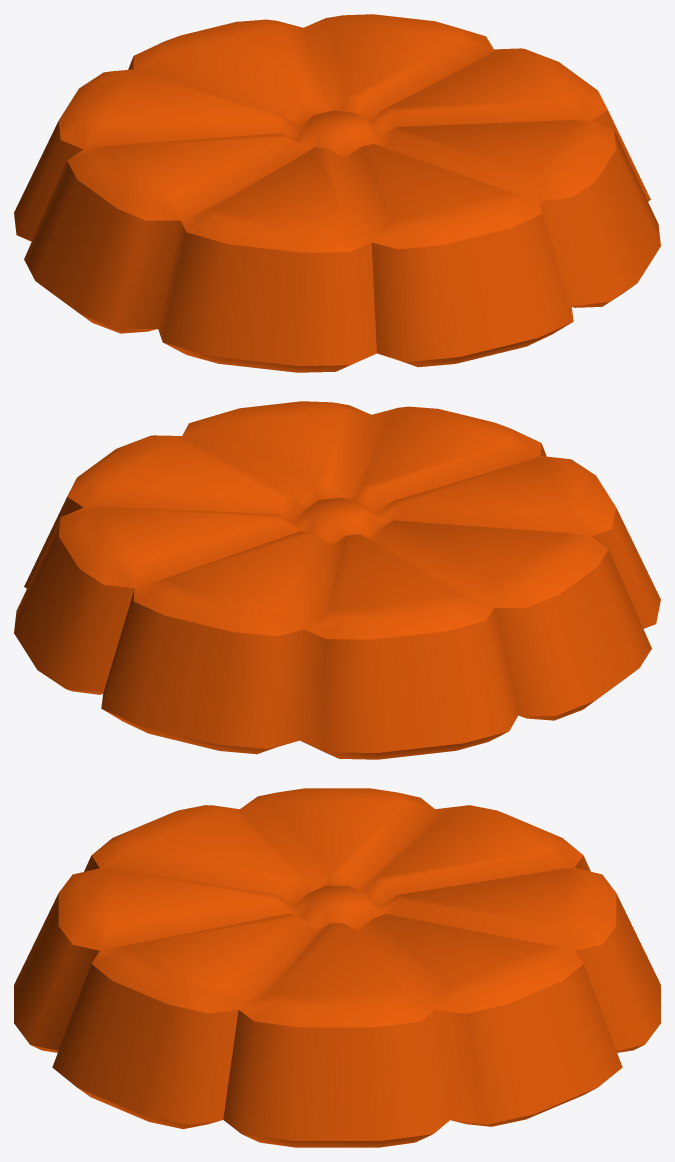
File: obj_resource_refinedlemonium.fbx
3 renders of one model, top to bottom at view 1: azimuth 30°, elevation 25°; view 2: azimuth 150°, elevation 25°; view 3: azimuth 270°, elevation 25°, orthographic.
Visible parts, largest first — view 1: refinedlemonium_lp.002; view 2: refinedlemonium_lp.002; view 3: refinedlemonium_lp.002.
Part boxes in pixels (x1=…): refinedlemonium_lp.002: x1=14, y1=14, x2=660, y2=372; refinedlemonium_lp.002: x1=14, y1=401, x2=660, y2=759; refinedlemonium_lp.002: x1=14, y1=788, x2=660, y2=1147.
Size of the model in its own units: 5.02 by 1.03 by 5.02.
